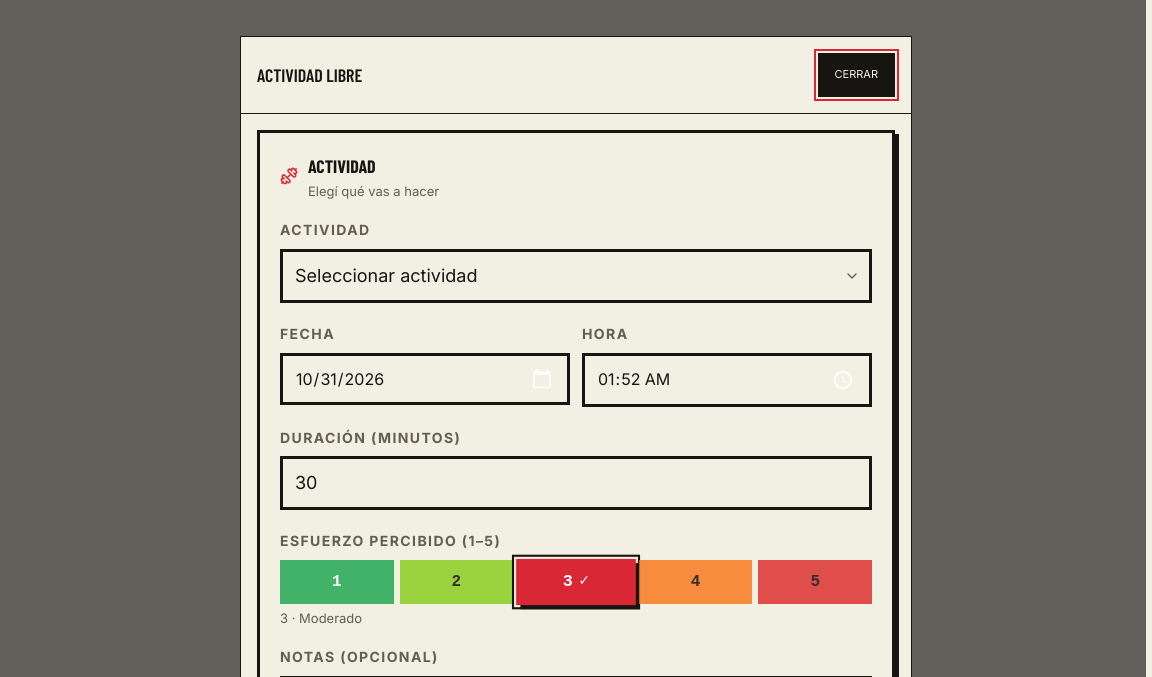
Test case: ActivityModal › guardar con RPE 4 persiste el valor y aparece en el historial
Select "Caminar" in the dropdown labelled "Actividad": (576, 276) [280,249,872,303]
(page scrolled)
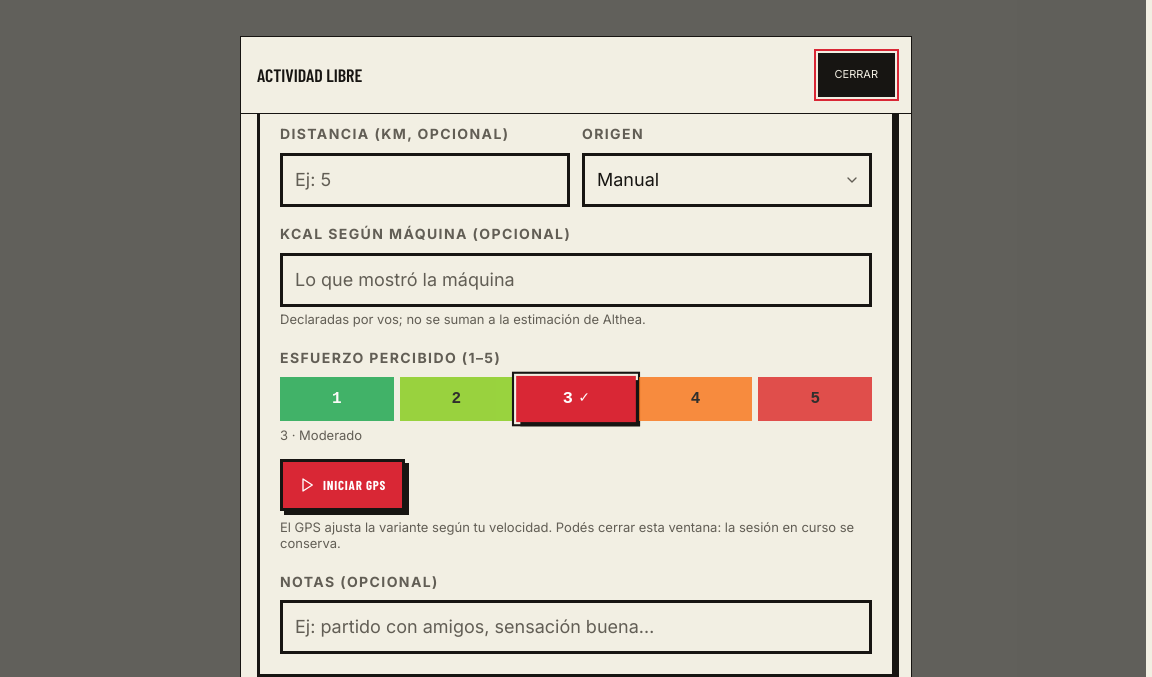
Click the button named "Esfuerzo 4": (696, 399) [639,377,752,421]
(page scrolled)
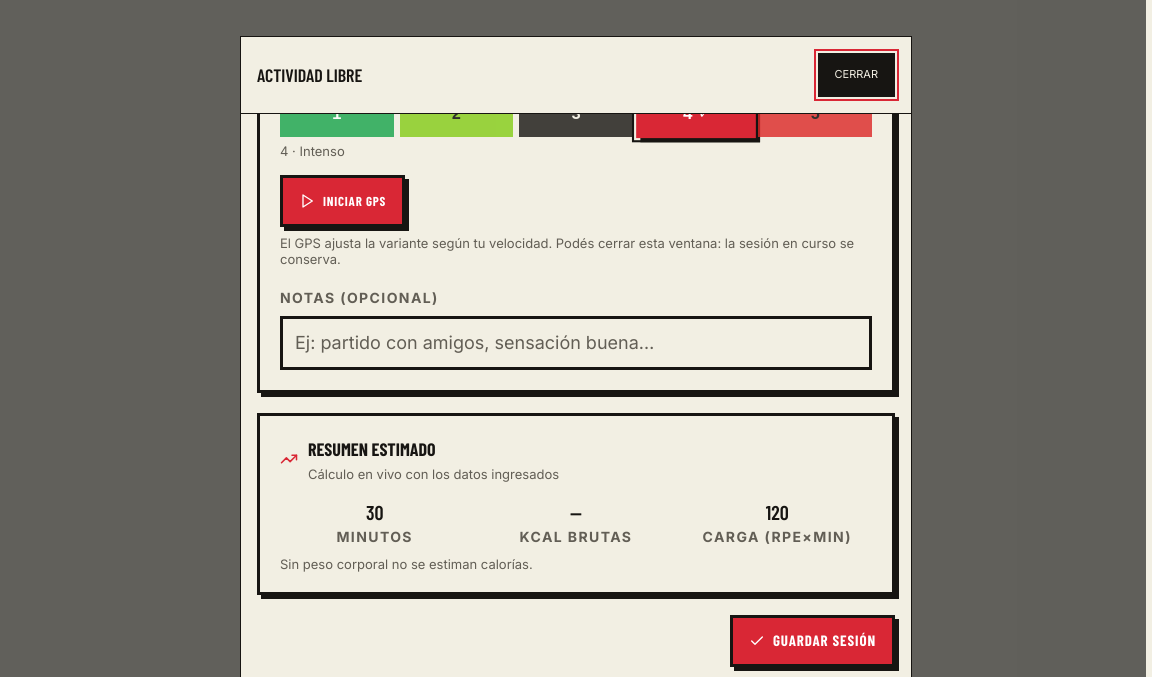
Click the button "Guardar sesión": (812, 641) [730,615,895,667]
(page scrolled)
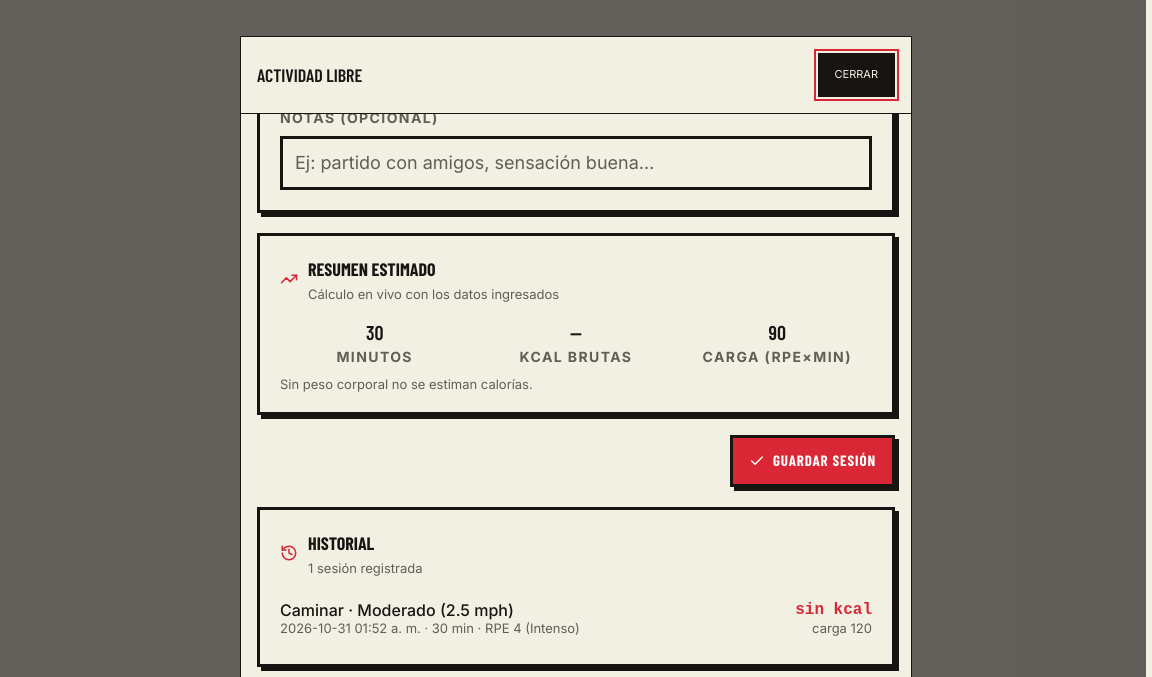
Expected: the text "2026-10-31 01:52 a. m. · 30 min · RPE 4 (Intenso)" is shown, [280,620,580,636]
